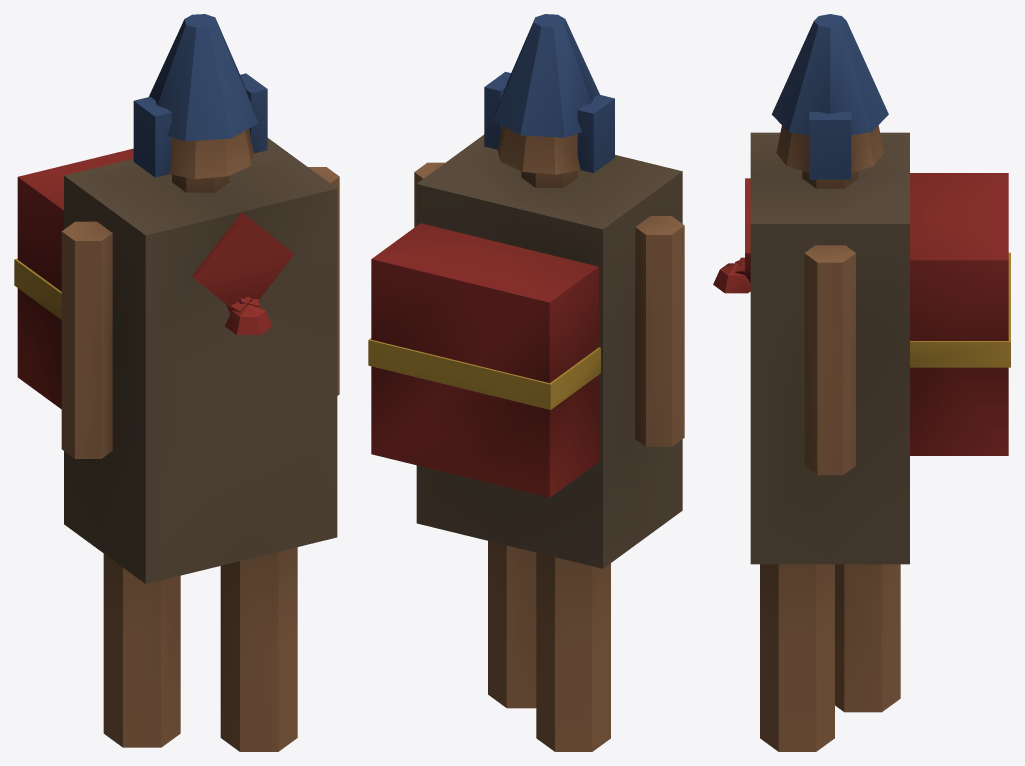
The model's file is porter.glb.
3 renders of one model, left to right at view 1: azimuth 30°, elevation 25°; view 2: azimuth 150°, elevation 25°; view 3: azimuth 270°, elevation 25°, orthographic. The views are drawn at different scales.
Visible parts, largest first — view 1: base; view 2: base; view 3: base.
Part boxes in pixels (x1,y1,x2,y2): base: [14, 14, 339, 751]; base: [368, 14, 684, 751]; base: [713, 14, 1010, 751].
Size of the model in its own units: 0.6353 by 1.64 by 0.635.
